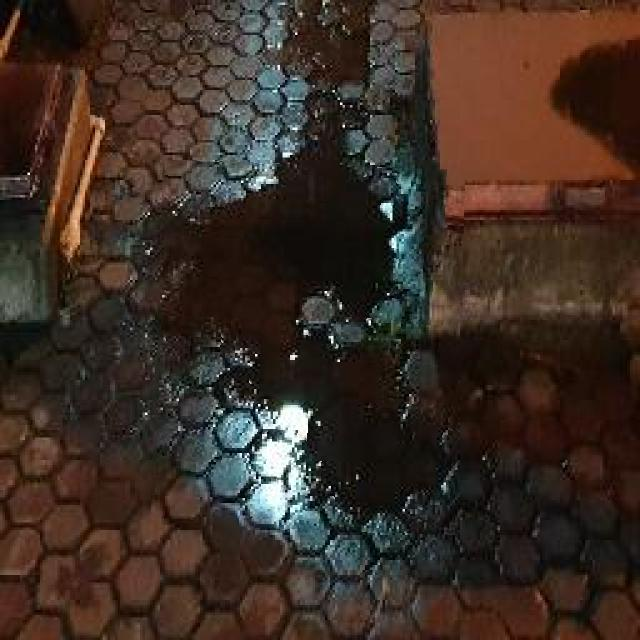puddle: (154, 163, 463, 533)
